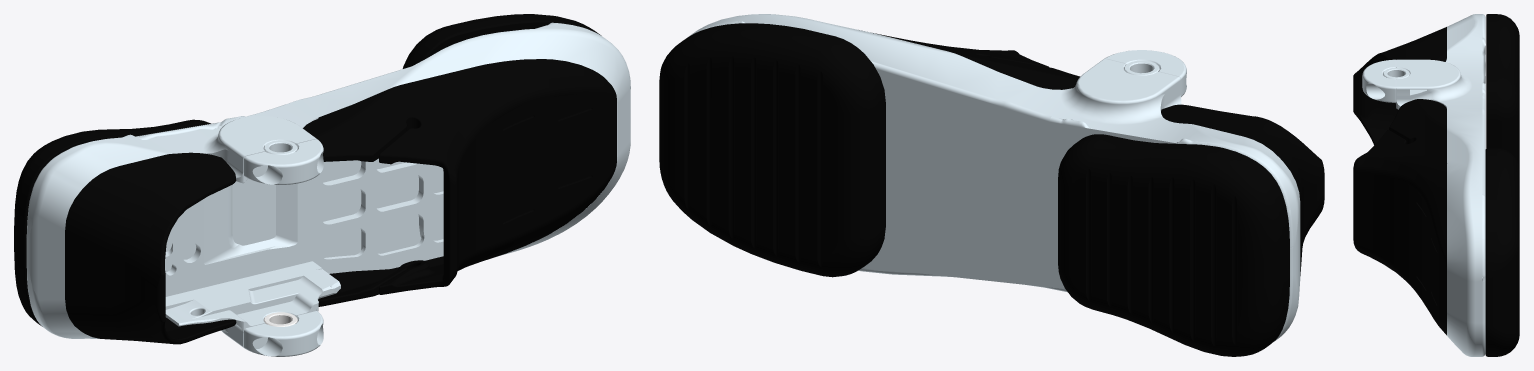
The model's file is right_ankle_pitch_link.dae.
3 renders of one model, left to right at view 1: azimuth 30°, elevation 25°; view 2: azimuth 150°, elevation 25°; view 3: azimuth 270°, elevation 25°, orthographic. The views are drawn at different scales.
Parts seen in each view (by area): view 1: 群组_1; view 2: 群组_1; view 3: 群组_1.
Boxes of the visible parts, x1=… form: 群组_1: x1=14, y1=14, x2=630, y2=356; 群组_1: x1=659, y1=14, x2=1324, y2=356; 群组_1: x1=1353, y1=14, x2=1519, y2=356.
Size of the model in its own units: 0.24 by 0.0855 by 0.0733.
